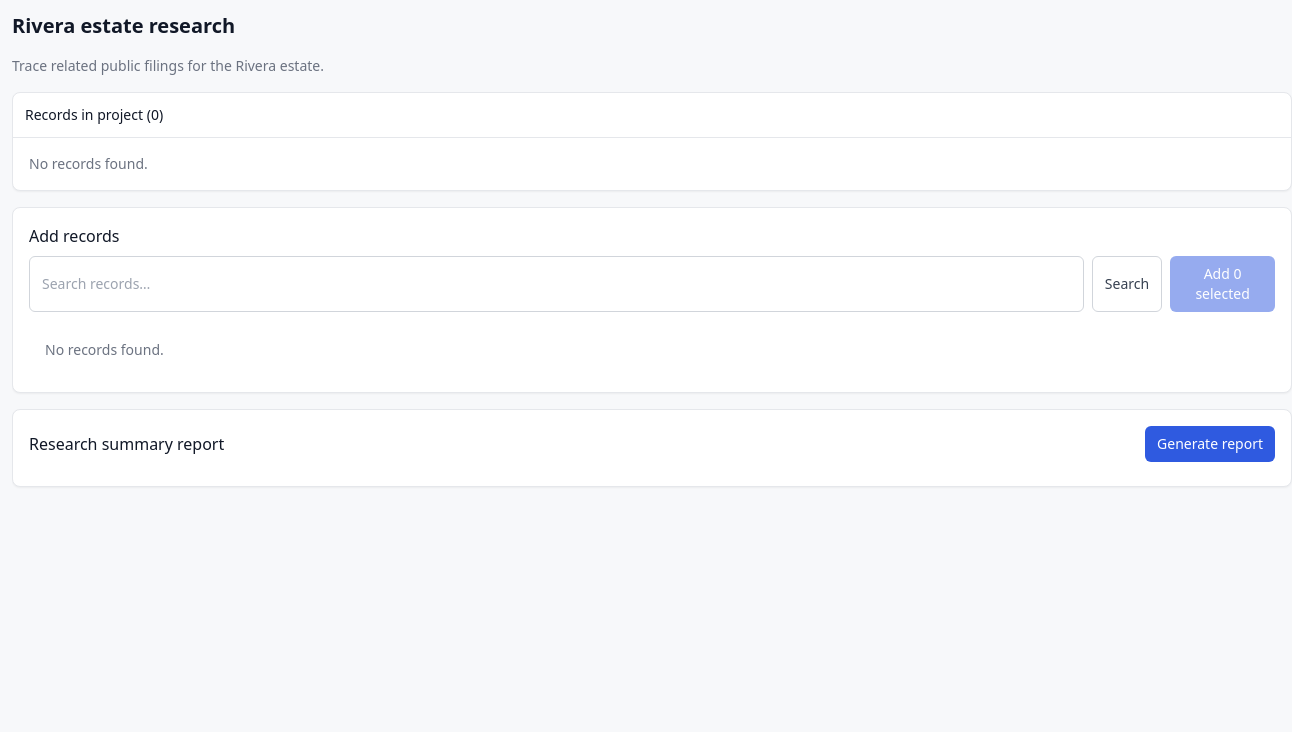
Test: research report generation › generates a cited summary report and exposes export formats
expect the heading "Rivera estate research" is shown: met, box top-left (12, 12), bottom-right (235, 39)
Click the button "Generate report": [1210, 444] box top-left (1145, 426), bottom-right (1275, 462)
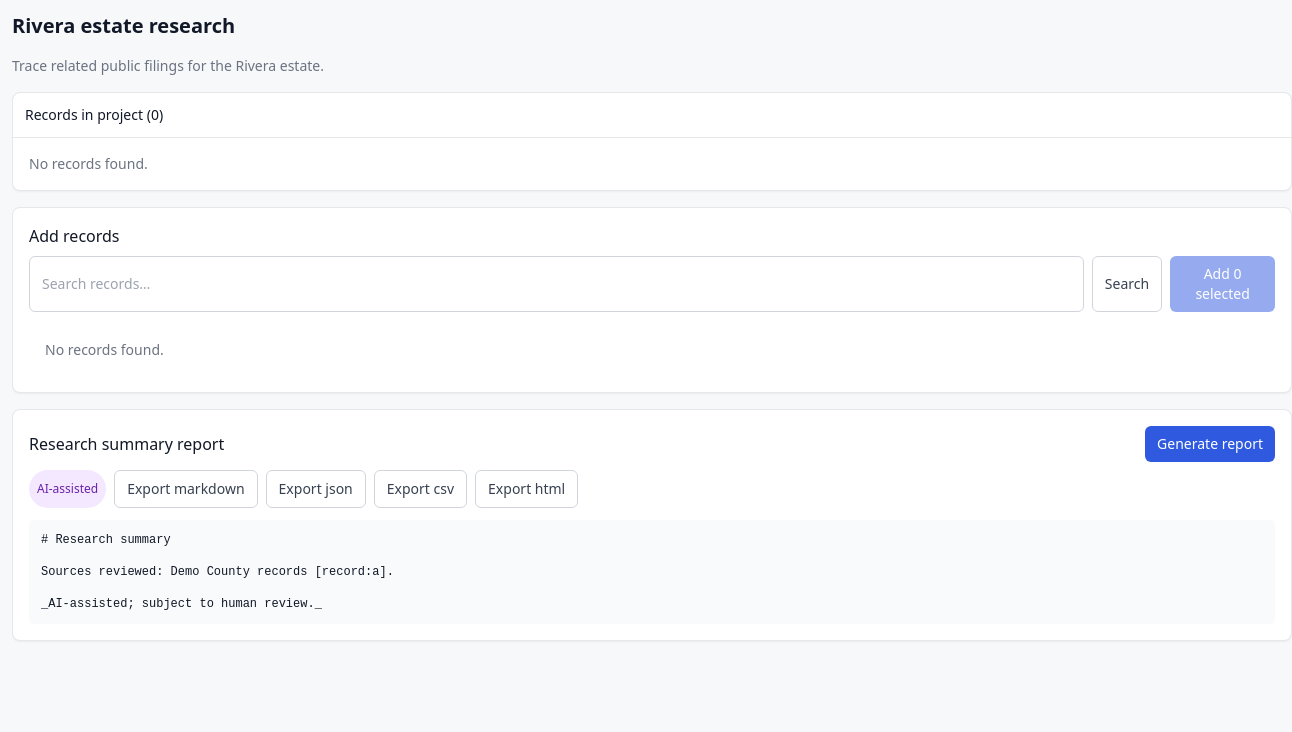
expect the text "Sources reviewed: Demo County records" is shown: met, box top-left (41, 533), bottom-right (394, 611)
expect the text "AI-assisted" is shown: met, box top-left (29, 470), bottom-right (106, 508)
